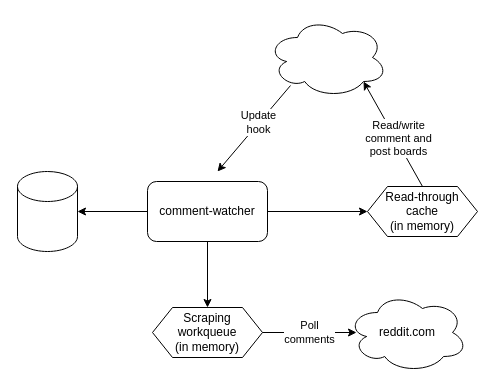
Some shapes in this 495 by 390 pixel diagram are drawn without their labels. Each missing label, with the centre of its shape:
"monday.com" goes at pixel 327 57.
"Users DB (Mongo)" goes at pixel 47 211.
